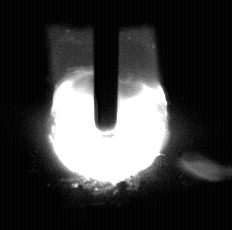arame: (95, 0, 119, 132)
poca: (49, 0, 171, 230)
